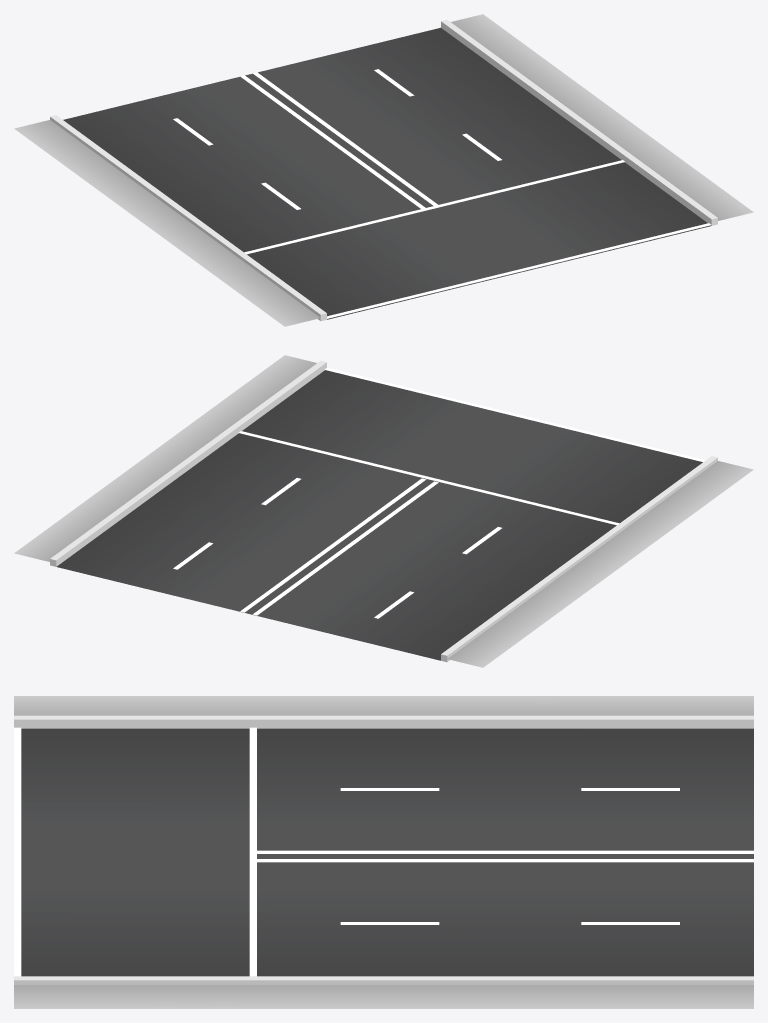
Rendered from road_020.glb.
3 views of the same model, one above another, from view 1: azimuth 30°, elevation 25°; view 2: azimuth 150°, elevation 25°; view 3: azimuth 270°, elevation 25° (orthographic). The views are drawn at different scales.
Parts seen in each view (by area): view 1: road_020; view 2: road_020; view 3: road_020.
Part boxes in pixels (x1,y1,x2,y2): road_020: (14, 14, 753, 326); road_020: (14, 355, 753, 667); road_020: (14, 696, 753, 1008).
Size of the model in its own units: 15 by 0.2 by 15.
1 material, 1 textured.
